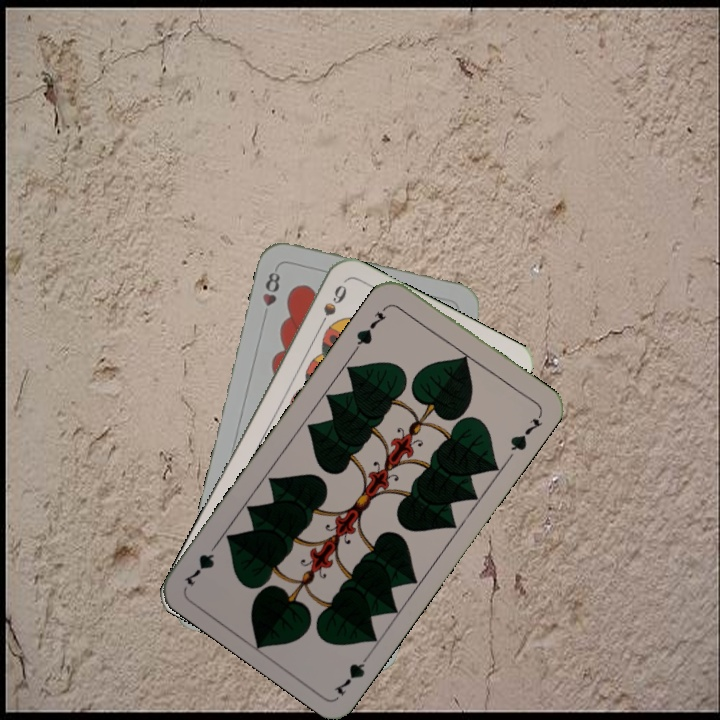G7: (330, 647, 375, 699), (351, 301, 391, 352)
H8: (258, 268, 283, 309)
S9: (313, 280, 350, 334)
